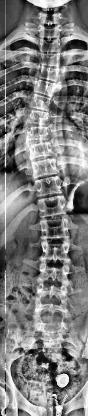Vertebrae: (38, 242, 72, 262), (36, 285, 70, 305), (38, 264, 70, 284), (40, 221, 72, 240), (38, 197, 68, 216), (30, 159, 58, 177), (24, 124, 52, 141), (33, 80, 58, 98), (35, 178, 63, 194), (38, 64, 62, 82), (29, 94, 53, 112), (24, 110, 50, 126), (27, 144, 55, 158), (38, 25, 63, 39), (38, 39, 62, 53), (38, 52, 62, 66), (38, 12, 63, 24)
